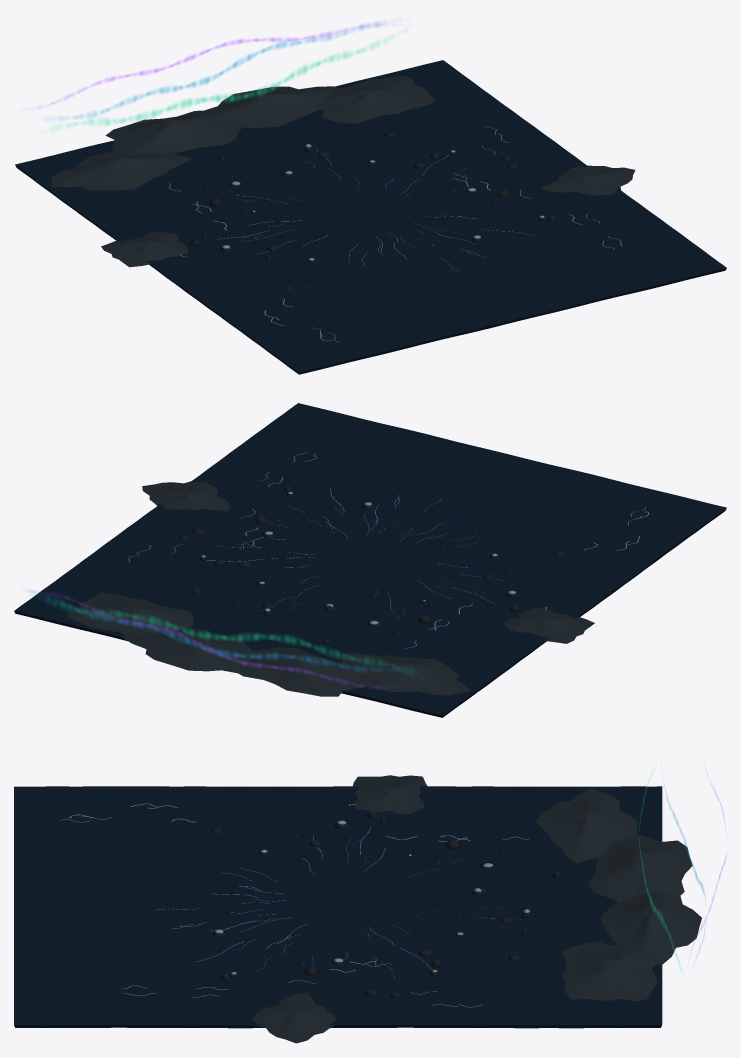
The model's file is world-aurora-lake.glb.
3 renders of one model, top to bottom at view 1: azimuth 30°, elevation 25°; view 2: azimuth 150°, elevation 25°; view 3: azimuth 270°, elevation 25°, orthographic. The views are drawn at different scales.
Visible parts, largest first — view 1: Aurora_Continuous_Thick_Ice_Lake, BJ8_World_Aurora_Aurora_Mountain_Rock_Muted, Aurora_Green_Long_Curtain, BJ8_World_Aurora_Aurora_Shore_Rock_BlueGrey, Aurora_Cyan_Fading_Curtain, Aurora_Violet_Distant_Curtain, BJ8_World_Aurora_Aurora_Ice_Snow_Crust; view 2: Aurora_Continuous_Thick_Ice_Lake, BJ8_World_Aurora_Aurora_Mountain_Rock_Muted, Aurora_Green_Long_Curtain, BJ8_World_Aurora_Aurora_Shore_Rock_BlueGrey, Aurora_Cyan_Fading_Curtain, Aurora_Violet_Distant_Curtain, BJ8_World_Aurora_Aurora_Ice_Snow_Crust; view 3: Aurora_Continuous_Thick_Ice_Lake, BJ8_World_Aurora_Aurora_Mountain_Rock_Muted, BJ8_World_Aurora_Aurora_Shore_Rock_BlueGrey, BJ8_World_Aurora_Aurora_Ice_Snow_Crust, BJ8_World_Aurora_Aurora_Ice_Frost_Filaments.
Part boxes in pixels (bbox=[...]): Aurora_Continuous_Thick_Ice_Lake: bbox=[15, 60, 726, 374]; BJ8_World_Aurora_Aurora_Mountain_Rock_Muted: bbox=[51, 75, 635, 267]; Aurora_Green_Long_Curtain: bbox=[67, 36, 392, 126]; BJ8_World_Aurora_Aurora_Shore_Rock_BlueGrey: bbox=[190, 132, 555, 290]; Aurora_Cyan_Fading_Curtain: bbox=[60, 23, 378, 120]; Aurora_Violet_Distant_Curtain: bbox=[38, 23, 380, 108]; BJ8_World_Aurora_Aurora_Ice_Snow_Crust: bbox=[169, 126, 622, 342]; Aurora_Continuous_Thick_Ice_Lake: bbox=[14, 403, 726, 717]; BJ8_World_Aurora_Aurora_Mountain_Rock_Muted: bbox=[67, 481, 594, 696]; Aurora_Green_Long_Curtain: bbox=[46, 600, 400, 669]; BJ8_World_Aurora_Aurora_Shore_Rock_BlueGrey: bbox=[179, 485, 564, 643]; Aurora_Cyan_Fading_Curtain: bbox=[47, 596, 397, 671]; Aurora_Violet_Distant_Curtain: bbox=[51, 593, 379, 688]; BJ8_World_Aurora_Aurora_Ice_Snow_Crust: bbox=[128, 452, 648, 649]; Aurora_Continuous_Thick_Ice_Lake: bbox=[14, 786, 662, 1028]; BJ8_World_Aurora_Aurora_Mountain_Rock_Muted: bbox=[252, 775, 701, 1043]; BJ8_World_Aurora_Aurora_Shore_Rock_BlueGrey: bbox=[210, 810, 561, 997]; BJ8_World_Aurora_Aurora_Ice_Snow_Crust: bbox=[60, 803, 529, 1007]; BJ8_World_Aurora_Aurora_Ice_Frost_Filaments: bbox=[155, 828, 500, 977].
Bounding box in the file's own units: 60.75 × 6.12 × 68.2.
8 materials, 8 textured.
